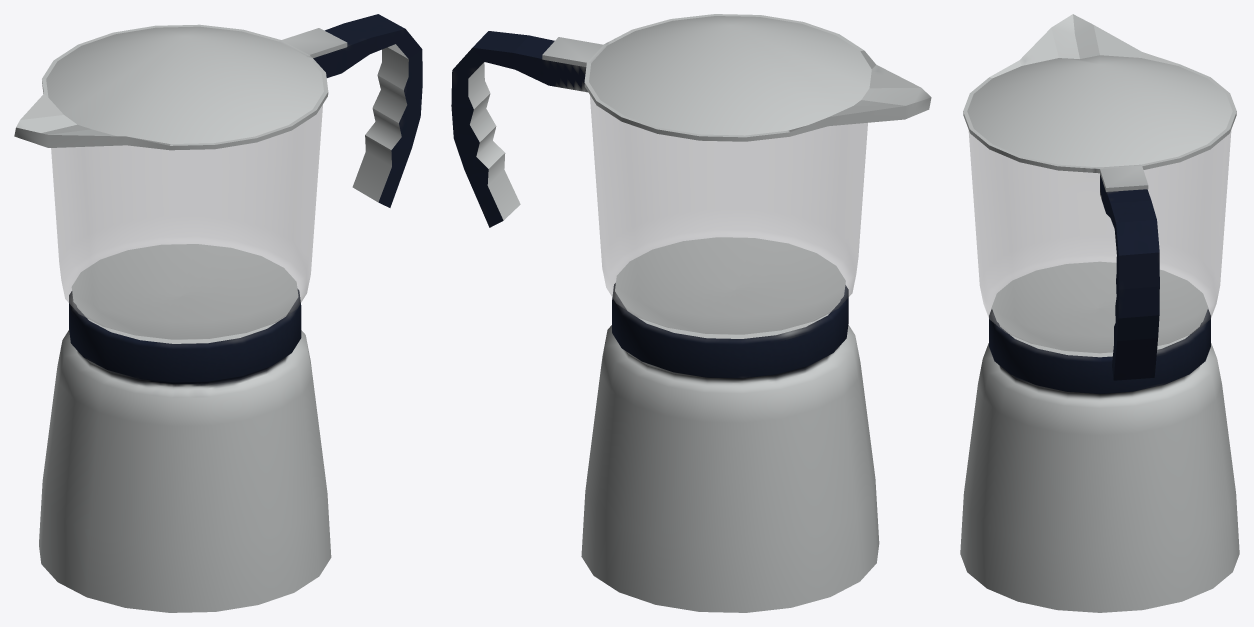
File: CoffeeMaker.fbx
3 renders of one model, left to right at view 1: azimuth 30°, elevation 25°; view 2: azimuth 150°, elevation 25°; view 3: azimuth 270°, elevation 25°, orthographic. The views are drawn at different scales.
Parts seen in each view (by area): view 1: CoffeeMachineOBJ; view 2: CoffeeMachineOBJ; view 3: CoffeeMachineOBJ.
Part boxes in pixels (bbox=[...]): CoffeeMachineOBJ: bbox=[14, 14, 422, 612]; CoffeeMachineOBJ: bbox=[451, 14, 931, 612]; CoffeeMachineOBJ: bbox=[960, 14, 1239, 612].
Size of the model in its own units: 22.86 by 26.12 by 13.51.
2 materials, 1 textured.
